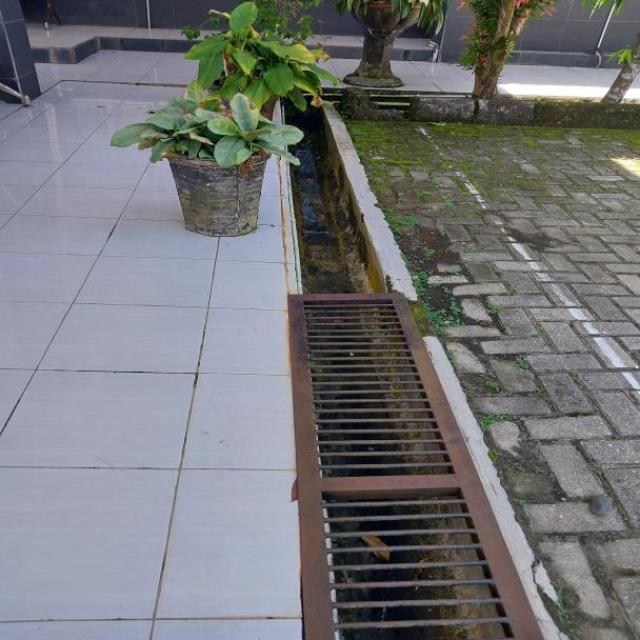plant ahead at: (113, 86, 299, 240)
